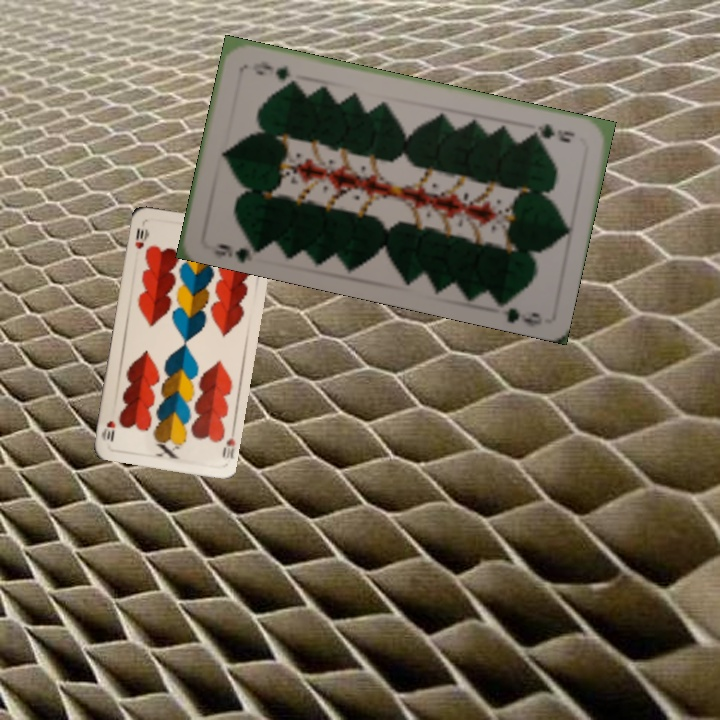G9: (210, 237, 263, 264), (526, 120, 578, 146)
H10: (131, 223, 151, 252), (218, 434, 238, 462)
